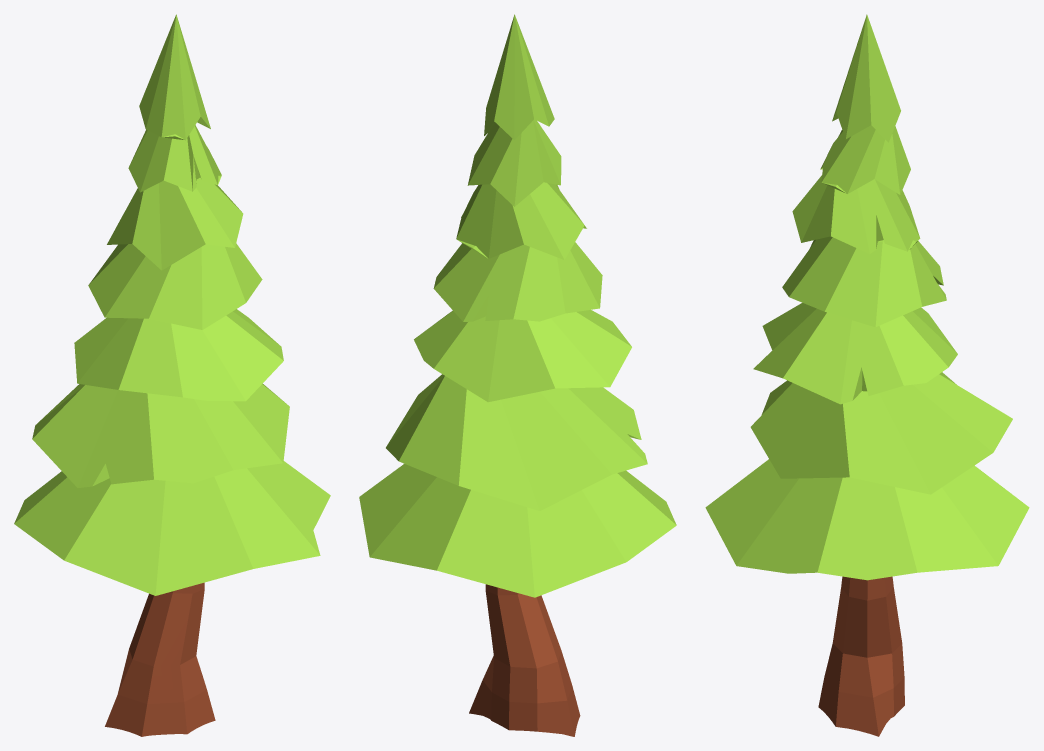
The model's file is tree_1.fbx.
3 views of the same model, side by side, from view 1: azimuth 30°, elevation 25°; view 2: azimuth 150°, elevation 25°; view 3: azimuth 270°, elevation 25° (orthographic).
Visible parts, largest first — view 1: Tree Type 2.004; view 2: Tree Type 2.004; view 3: Tree Type 2.004.
Part boxes in pixels (<box>): Tree Type 2.004: <box>14,14,330,736</box>; Tree Type 2.004: <box>359,14,676,736</box>; Tree Type 2.004: <box>705,14,1029,736</box>.
Size of the model in its own units: 511 by 1287 by 537.
